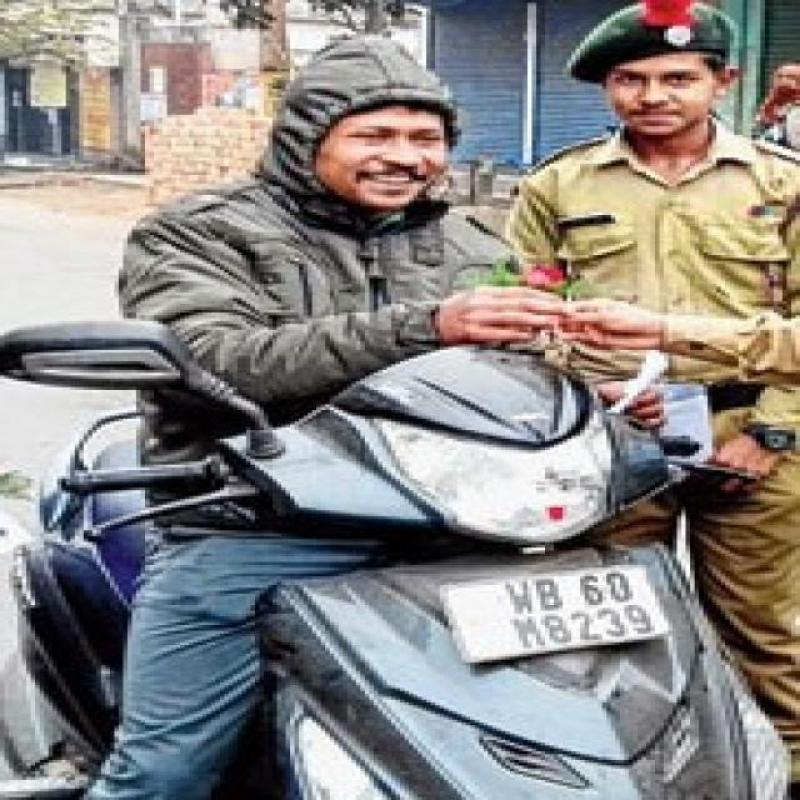nohelmet: (267, 24, 482, 216)
